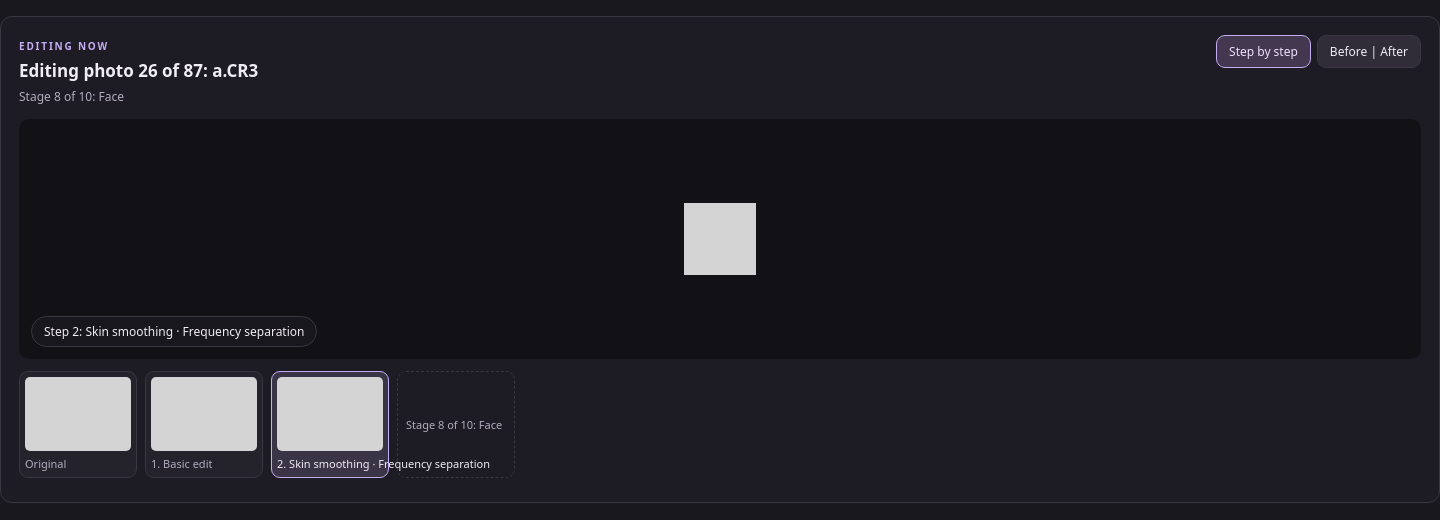
Test: shows the photograph being edited after its newest step, and every step beneath it
Expected: the heading "Editing photo 26 of 87: a.CR3" is shown, [19,59,258,84]
Expected: the message reads "Stage 8 of 10: Face", [19,88,124,105]
Note: Picking the original holds it until "Follow live".
Click the button "Original" at (78, 425), box [19,371,137,478]
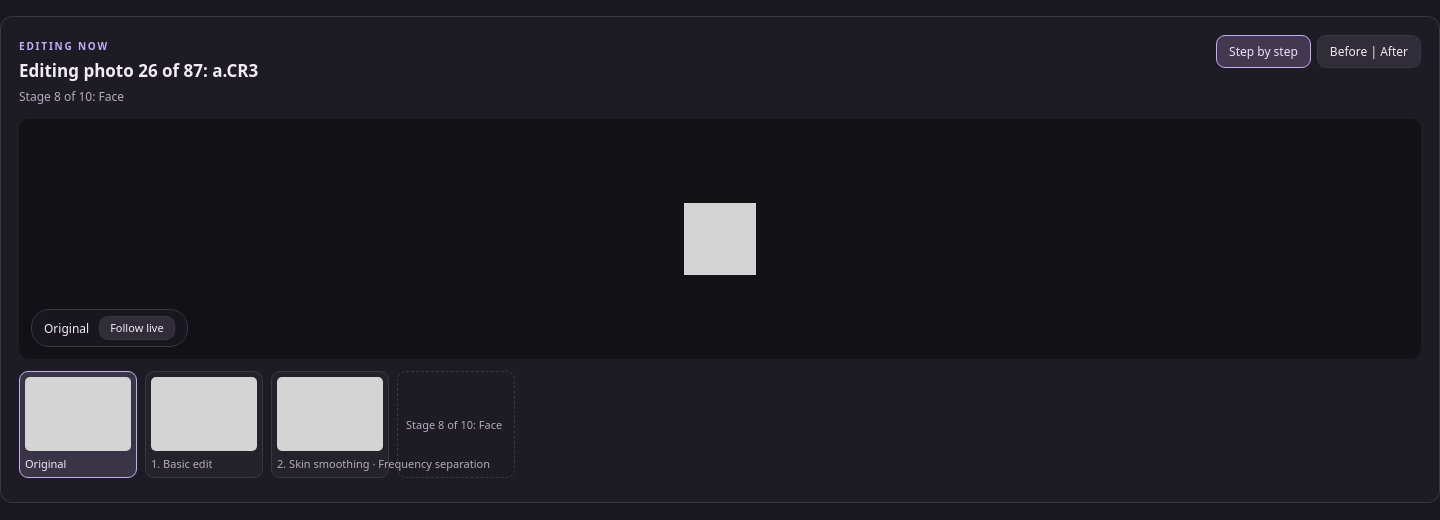
Click the button "Follow live" at (137, 328), box [99,316,175,340]
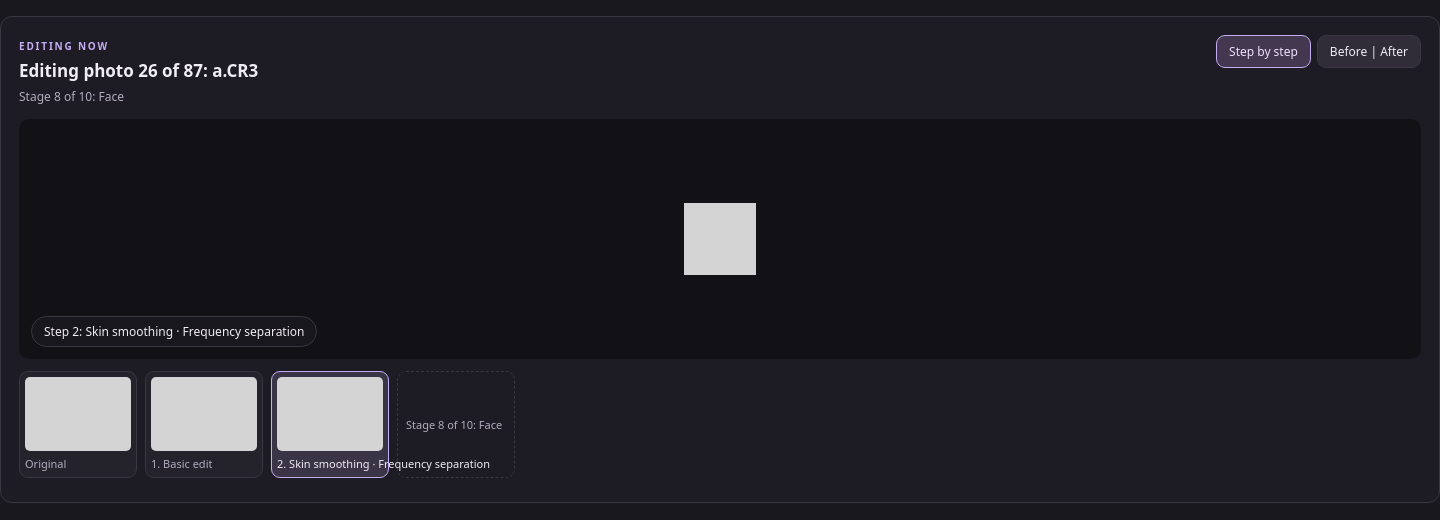
Note: Before and after, side by side.
Click the button "Before | After" at (1369, 52), box [1317,35,1421,68]
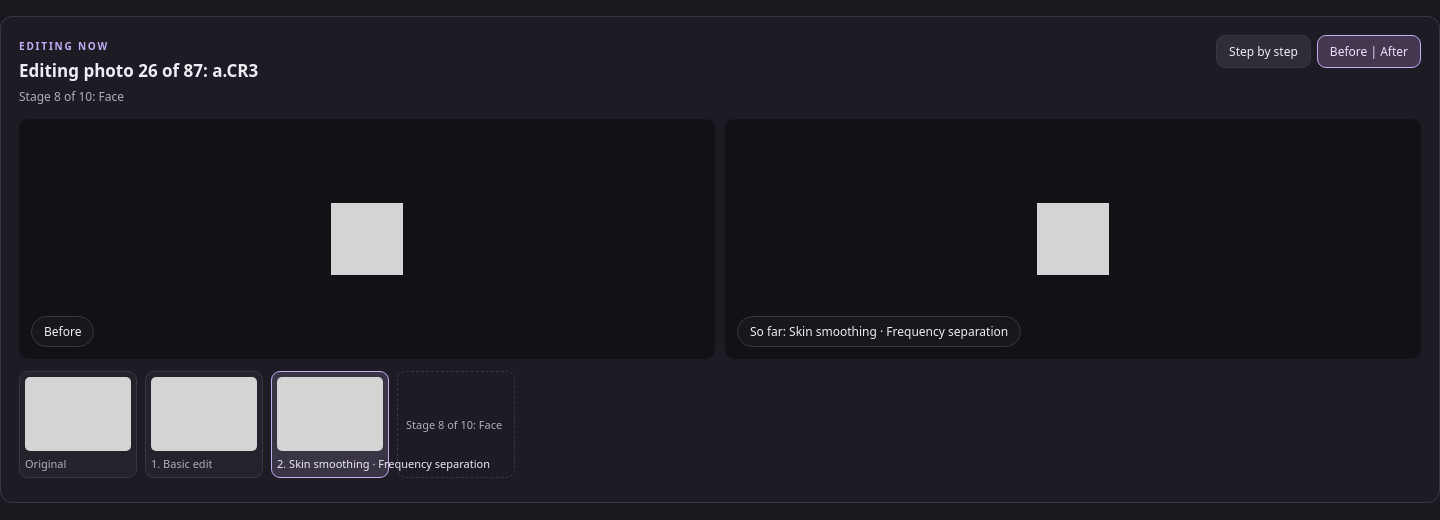
Result: the text "So far: Skin smoothing · Frequency separation" is shown at [737,316,1021,347]
